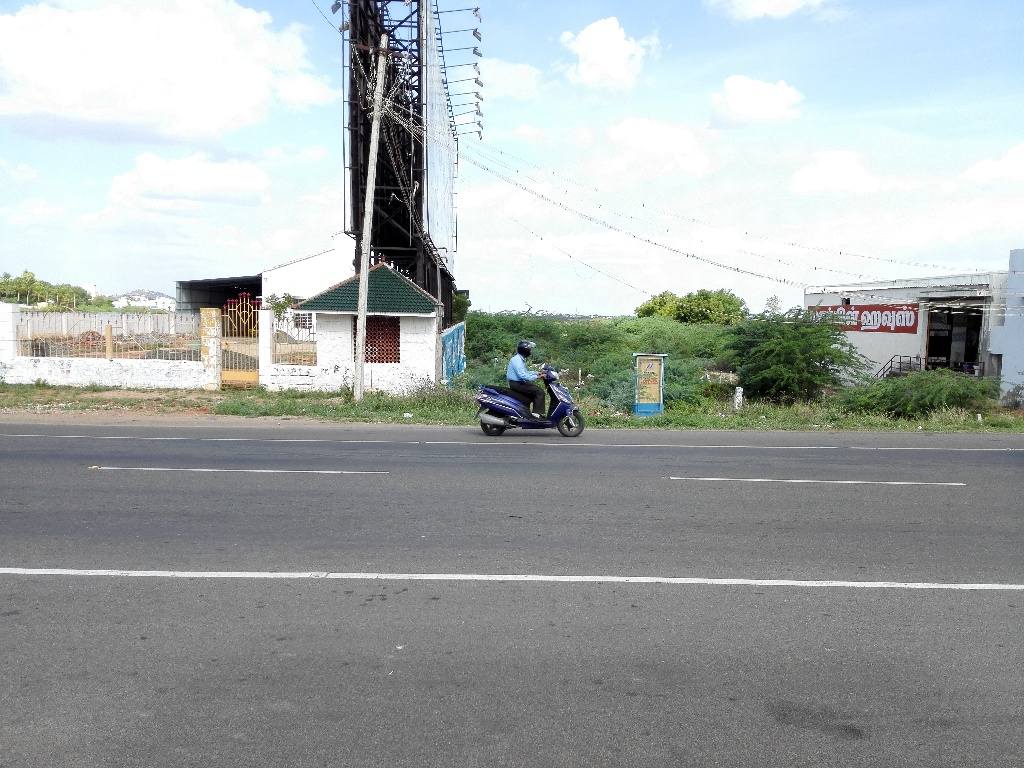biker: (466, 320, 599, 448)
helmet: (512, 333, 543, 367)
